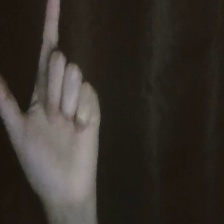L: (1, 1, 109, 207)
